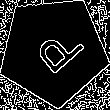P_SW: (23, 20, 84, 81)
